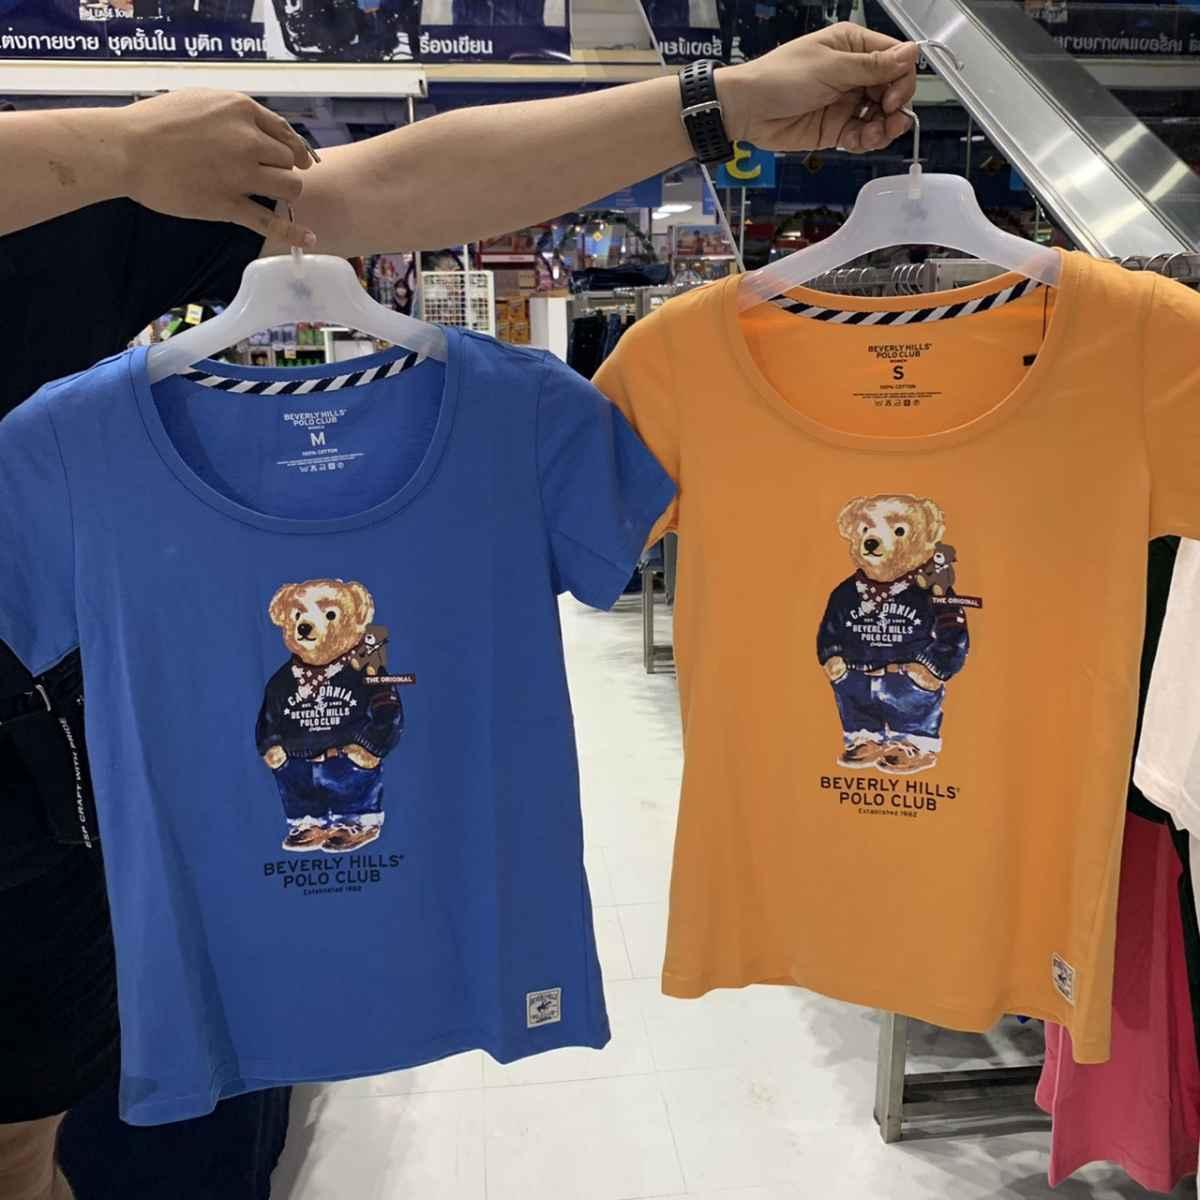Tshirt: (0, 286, 692, 1090), (592, 255, 1200, 1060)
